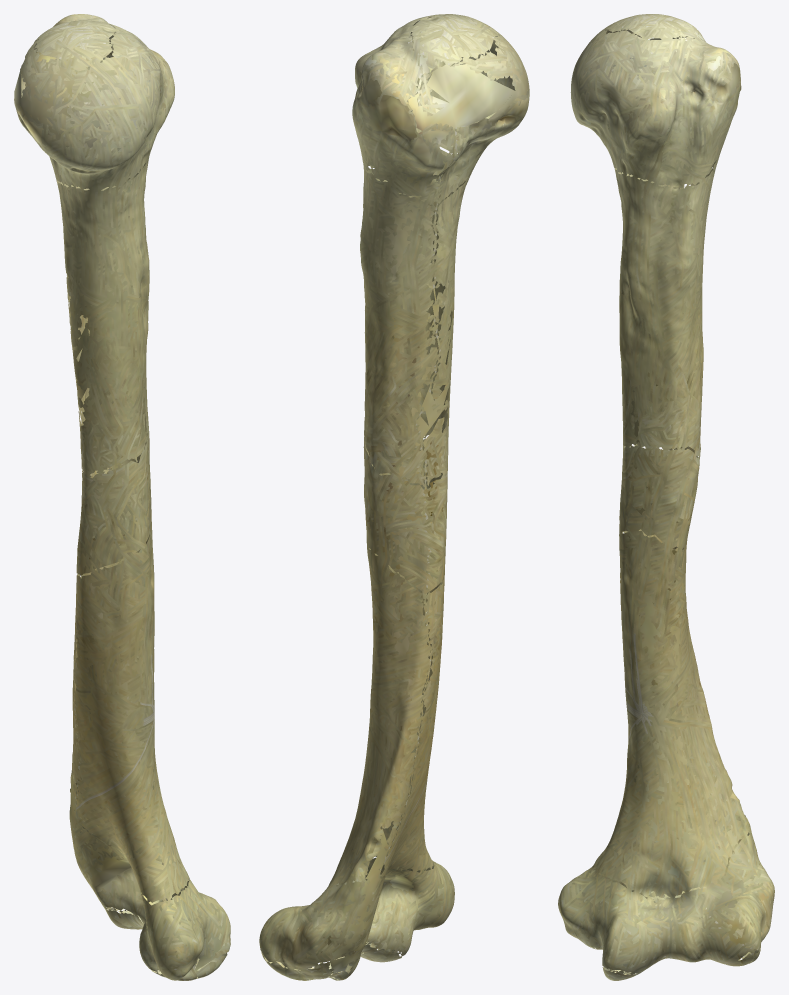
File: human_humerous.glb
3 renders of one model, left to right at view 1: azimuth 30°, elevation 25°; view 2: azimuth 150°, elevation 25°; view 3: azimuth 270°, elevation 25°, orthographic. The views are drawn at different scales.
Size of the model in its own units: 62.44 by 285 by 61.08.
Materials: 1 (1 with a texture image).
